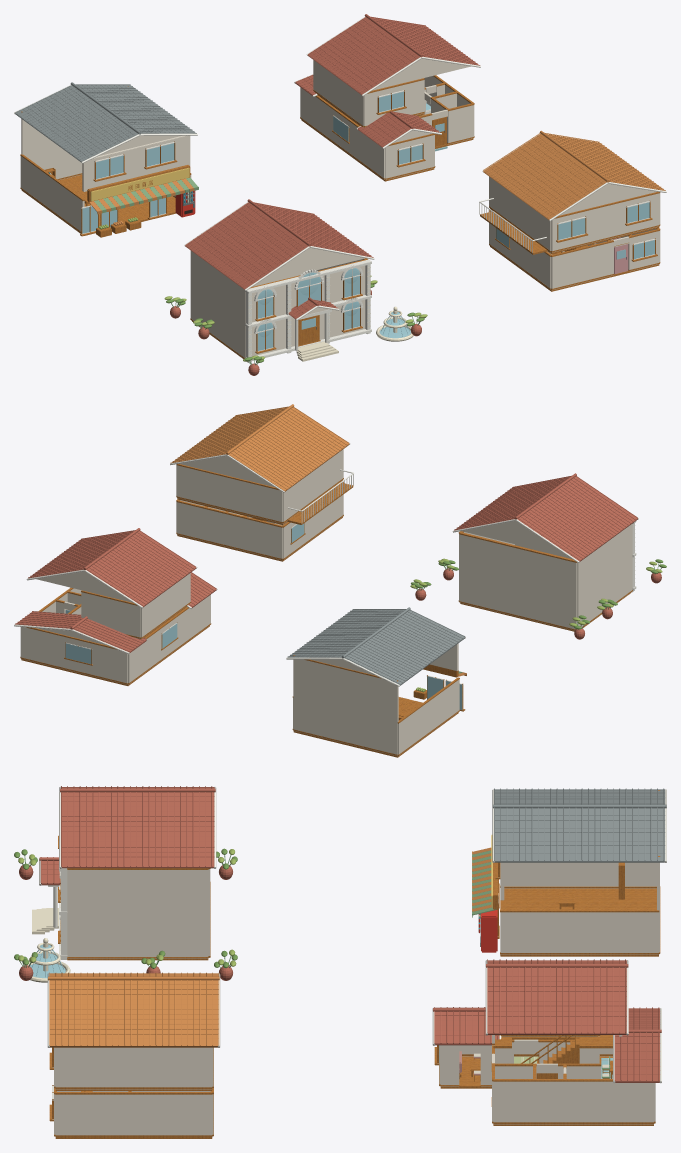
The model's file is neighborhood-v21.glb.
3 views of the same model, one above another, from view 1: azimuth 30°, elevation 25°; view 2: azimuth 150°, elevation 25°; view 3: azimuth 270°, elevation 25° (orthographic). The views are drawn at different scales.
Visible parts, largest first — view 1: v11_suneo, v11_gian, v11_home_roof, v11_shizuka_roof, v11_home_lower, v11_shizuka_upper_front, v11_shizuka_front, v11_shizuka_upper, v11_home_front, v11_home_upper_front, v11_shizuka_lower, v11_home_upper (+2 smaller); view 2: v11_suneo, v11_gian, v11_home_roof, v11_shizuka_roof, v11_home_lower, v11_shizuka_upper, v11_shizuka_lower, v11_home_upper, v11_shizuka_balcony, v11_home_front; view 3: v11_suneo, v11_gian, v11_home_roof, v11_home_lower, v11_shizuka_roof, v11_shizuka_lower, v11_shizuka_upper, v11_home_upper, v11_home_stairs.
Boxes of the visible parts, x1,y1,x2,y2 form: v11_suneo: (164, 199, 427, 375); v11_gian: (14, 82, 198, 237); v11_home_roof: (294, 14, 480, 148); v11_shizuka_roof: (482, 130, 666, 221); v11_home_lower: (300, 75, 474, 181); v11_shizuka_upper_front: (551, 191, 659, 252); v11_shizuka_front: (495, 228, 659, 290); v11_shizuka_upper: (489, 176, 660, 253); v11_home_front: (332, 103, 474, 167); v11_home_upper_front: (364, 78, 424, 127); v11_shizuka_lower: (489, 210, 660, 291); v11_home_upper: (313, 60, 424, 127); v11_suneo: (410, 473, 666, 639); v11_gian: (286, 607, 466, 757); v11_home_roof: (14, 528, 217, 654); v11_shizuka_roof: (170, 404, 350, 492); v11_home_lower: (20, 587, 211, 685); v11_shizuka_upper: (176, 449, 343, 524); v11_shizuka_lower: (176, 482, 343, 561); v11_home_upper: (81, 573, 190, 639); v11_shizuka_balcony: (287, 469, 354, 524); v11_home_front: (64, 622, 178, 665); v11_suneo: (14, 786, 237, 982); v11_gian: (472, 788, 666, 956); v11_home_roof: (432, 959, 661, 1083); v11_home_lower: (439, 1039, 655, 1125); v11_shizuka_roof: (47, 972, 220, 1047); v11_shizuka_lower: (55, 1088, 213, 1138); v11_shizuka_upper: (55, 1047, 213, 1090); v11_home_upper: (493, 1035, 622, 1048); v11_home_stairs: (521, 1035, 579, 1078).
Size of the model in its own units: 32.41 by 7.58 by 33.32.
Materials: 25 (3 with a texture image).
